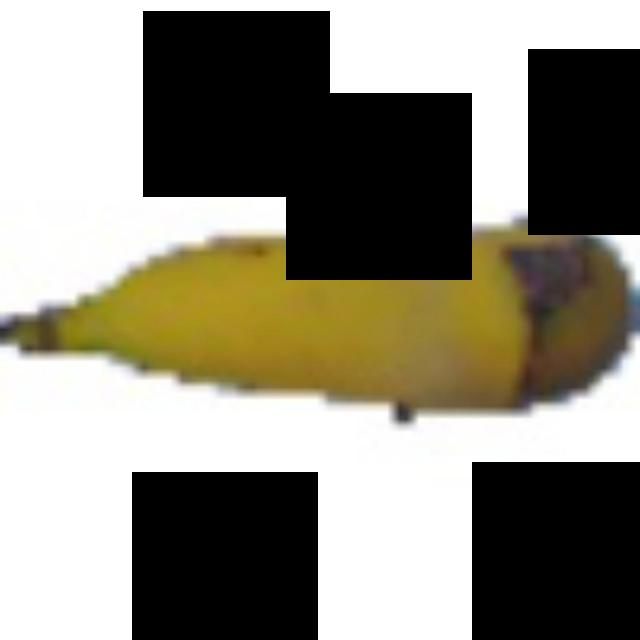banana: (0, 217, 634, 461)
